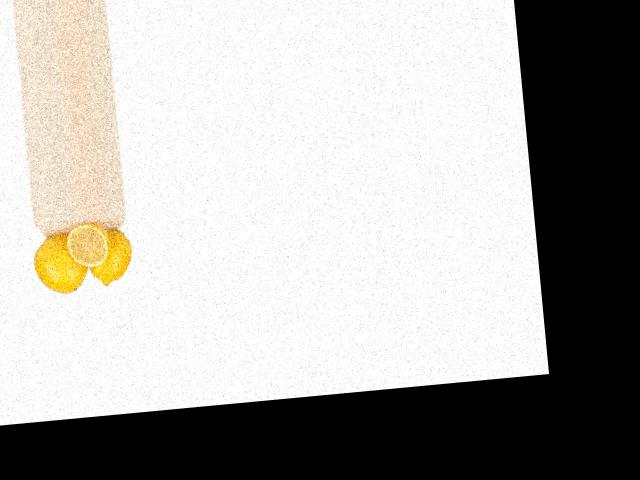lemon: (85, 221, 138, 288)
